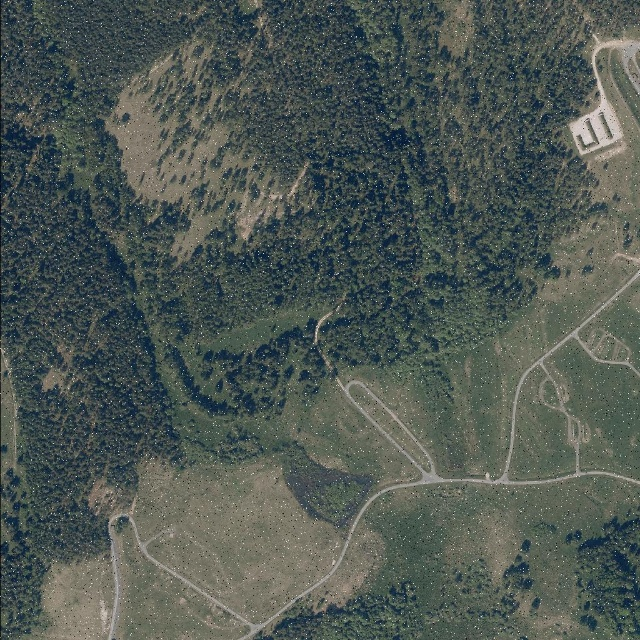vegetation: (94, 0, 640, 371), (2, 0, 183, 639), (37, 2, 244, 126), (204, 320, 338, 414), (256, 581, 432, 638), (578, 512, 640, 639), (162, 340, 237, 418)
